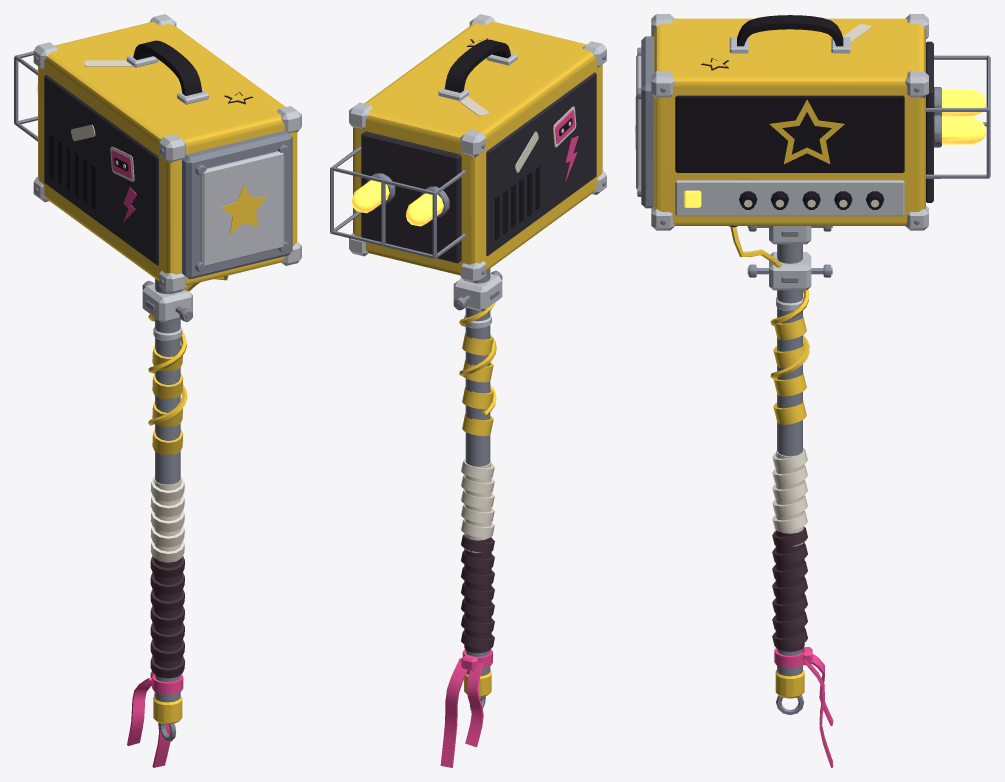
Rendered from amp_sledge.glb.
3 renders of one model, left to right at view 1: azimuth 30°, elevation 25°; view 2: azimuth 150°, elevation 25°; view 3: azimuth 270°, elevation 25°, orthographic. The views are drawn at different scales.
Parts seen in each view (by area): view 1: Weapon; view 2: Weapon; view 3: Weapon.
Boxes of the visible parts, bbox=[...] form: Weapon: bbox=[14, 14, 301, 767]; Weapon: bbox=[330, 14, 606, 767]; Weapon: bbox=[635, 14, 990, 767].
Bounding box in the file's own units: 0.3015 × 1.44 × 0.6272.
